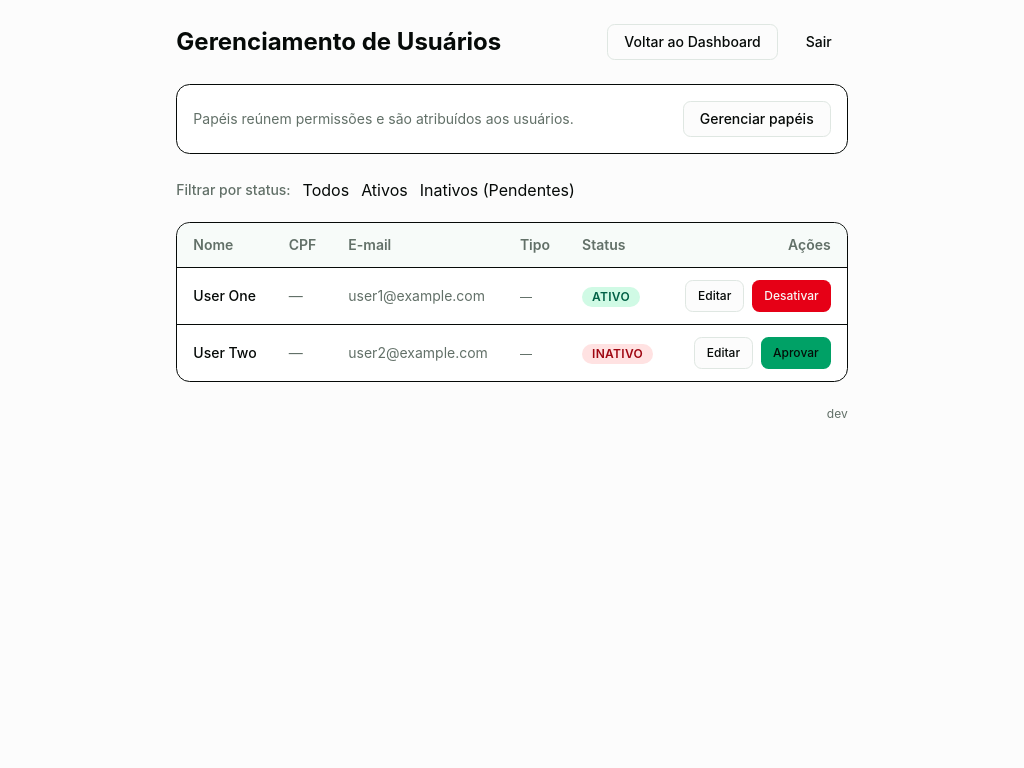
Test case: AdminUserDashboard › shows alert on mutation error
expect the text "User One" is shown: met, box [177, 268, 273, 324]
Click the button "Desativar" at [792, 296], box [752, 280, 831, 312]
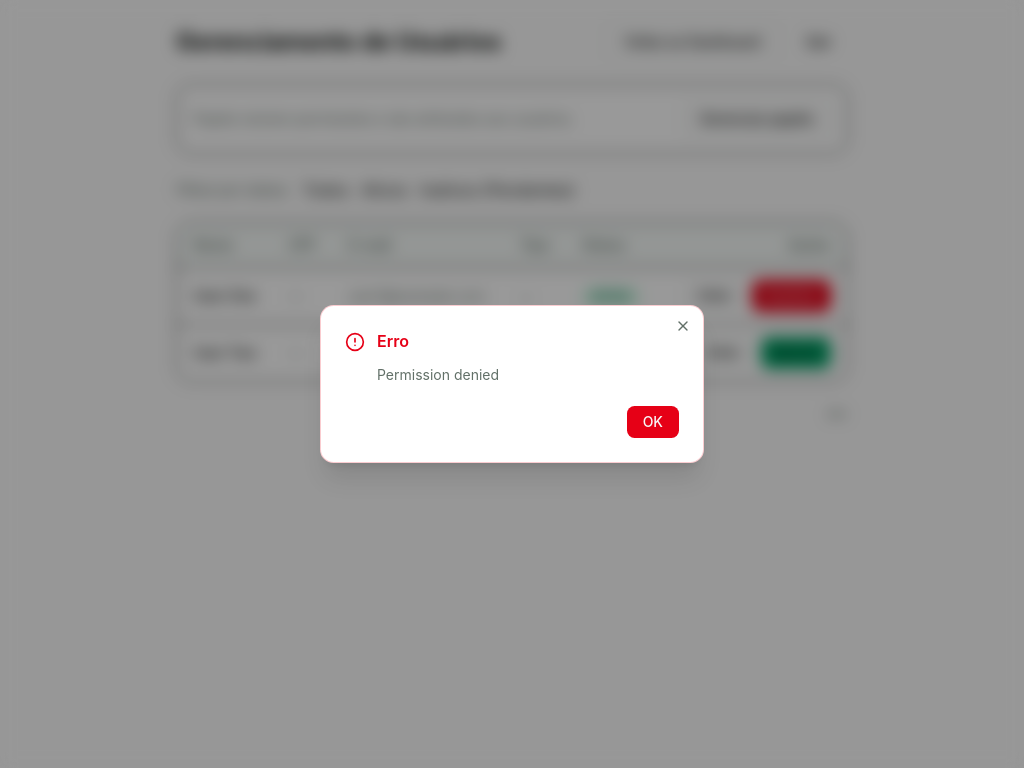
expect the text "Permission denied" is shown: met, box [377, 366, 499, 383]
